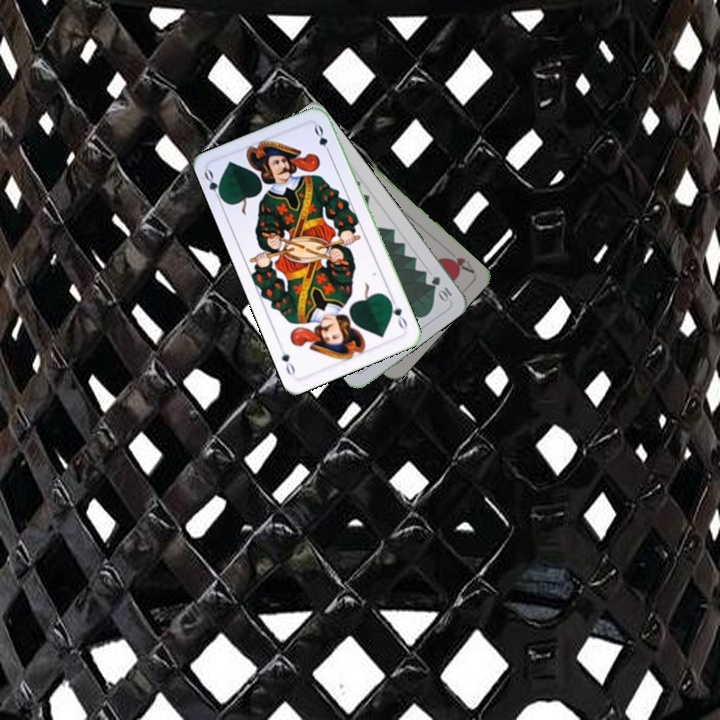G10: (427, 272, 455, 304)
GO: (200, 166, 226, 205), (385, 295, 410, 333)
HA: (440, 253, 477, 276)
